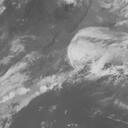cyclone: (66, 26, 115, 77)
